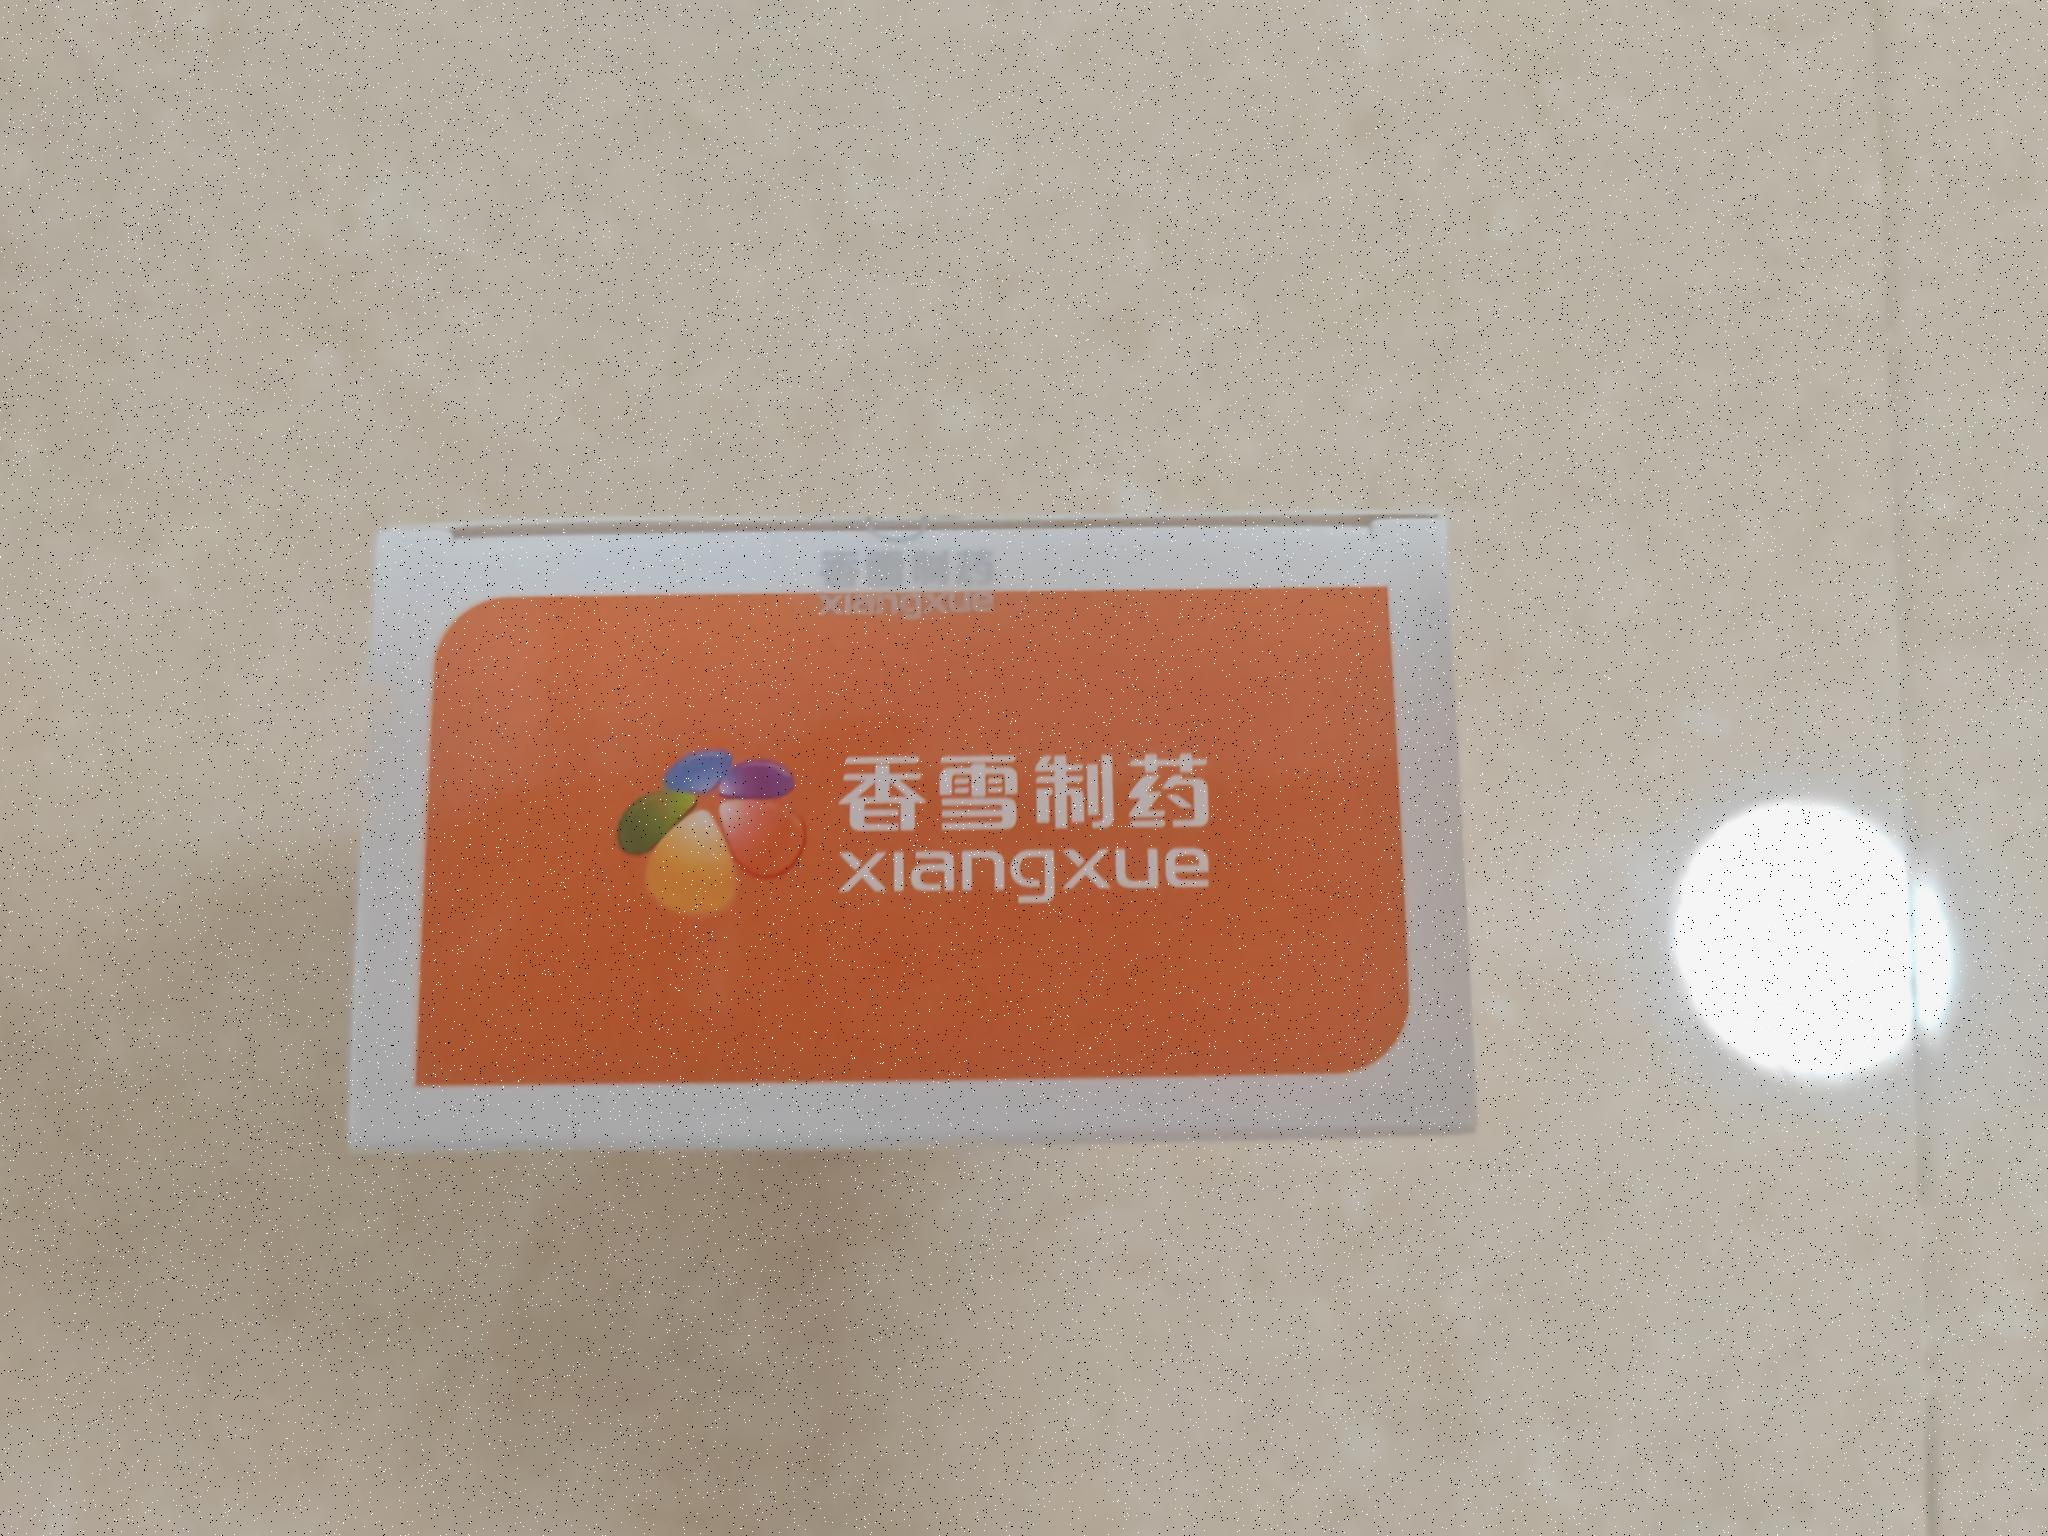Medicine1: (335, 499, 1527, 1199)
